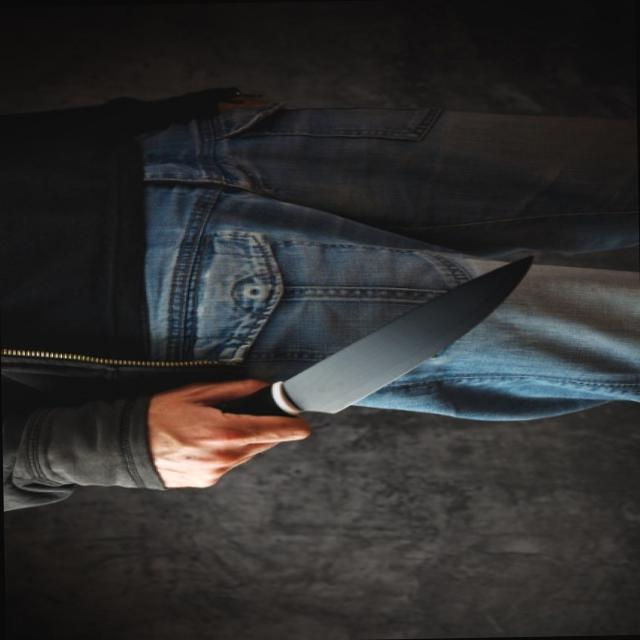knife: (183, 246, 549, 474)
